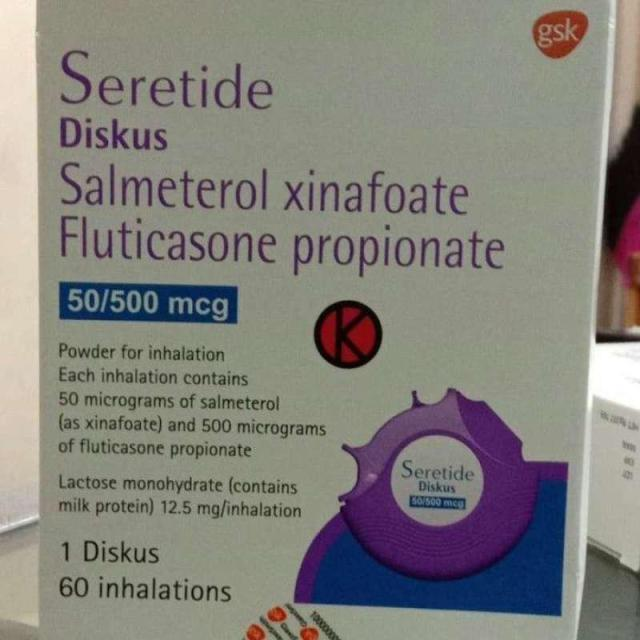drug-name: (48, 47, 306, 112)
